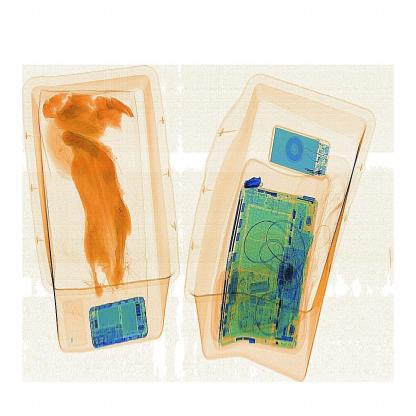knife: (241, 174, 262, 192)
